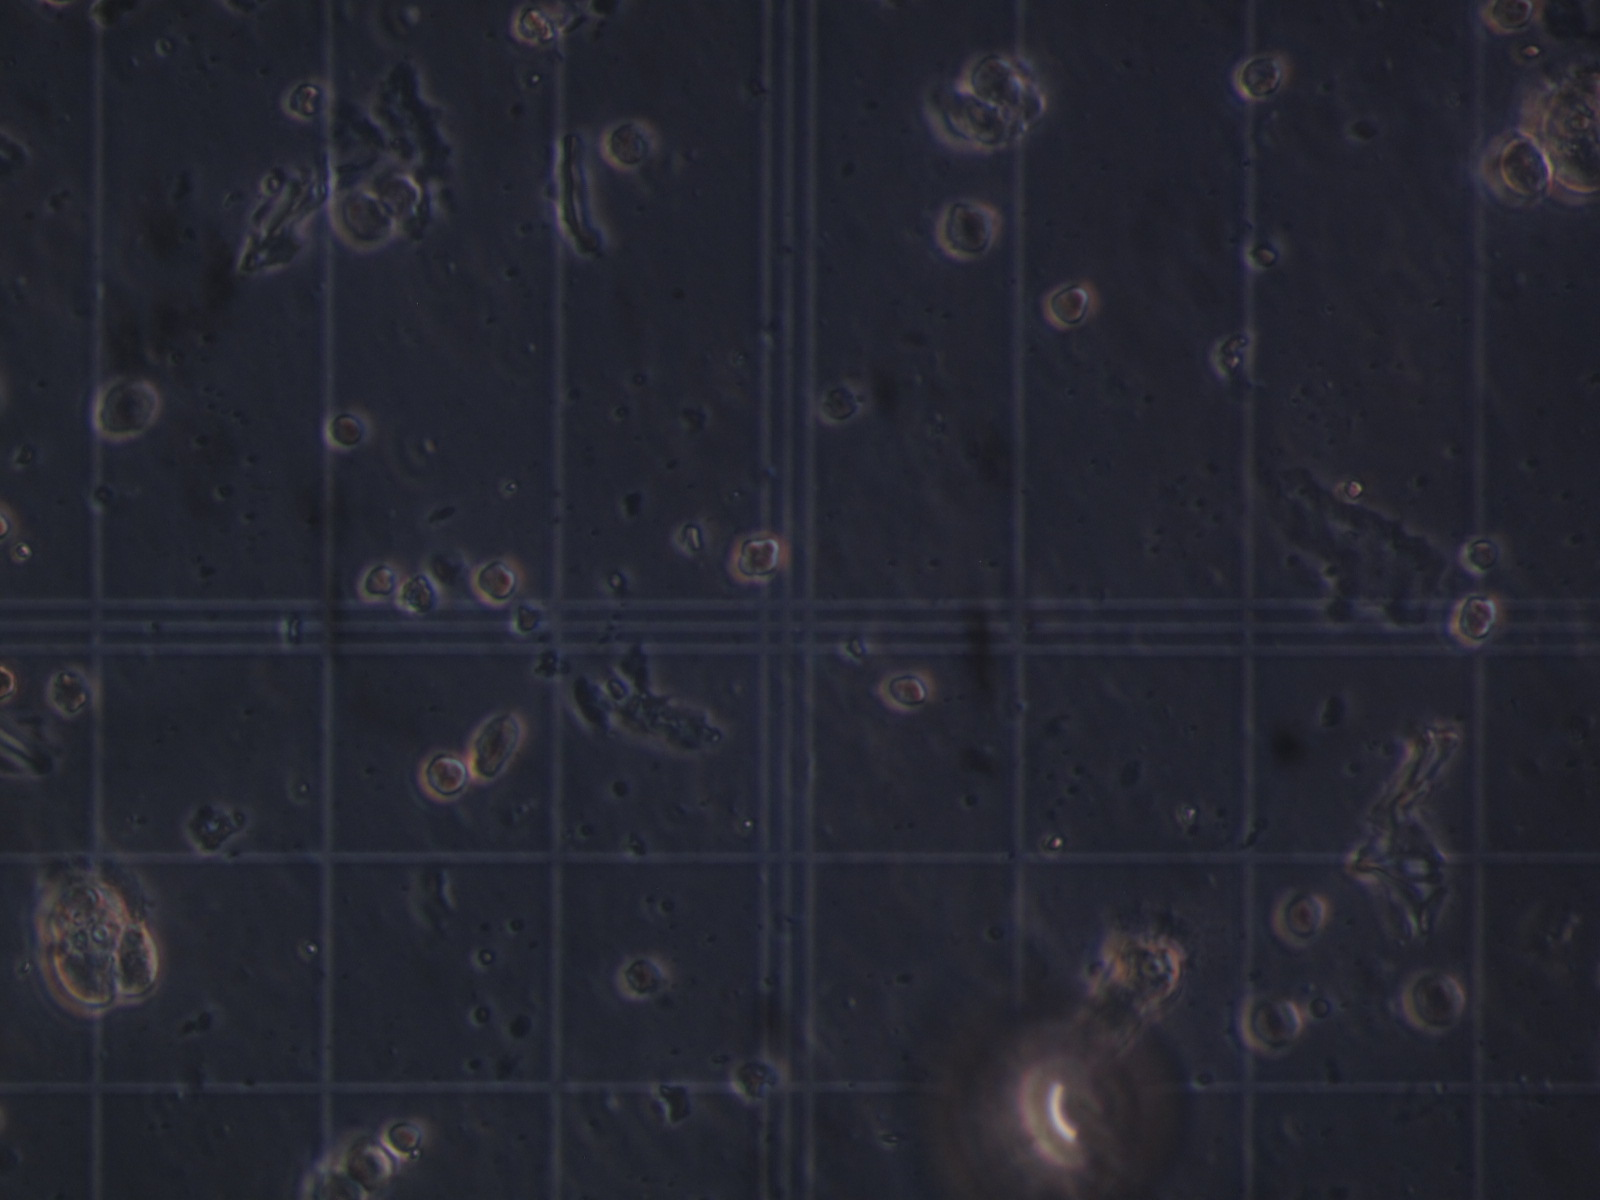hemo: (1479, 127, 1555, 205), (89, 373, 163, 444), (1238, 991, 1304, 1063), (1400, 967, 1466, 1035), (333, 185, 397, 251), (467, 712, 527, 783), (936, 198, 999, 262), (1271, 887, 1330, 949), (601, 117, 658, 173), (729, 531, 790, 582), (727, 1054, 787, 1105), (1041, 279, 1094, 332), (420, 751, 470, 807), (1448, 594, 1497, 649), (1235, 52, 1286, 103), (47, 666, 96, 720), (510, 3, 564, 50), (470, 557, 523, 605), (321, 406, 374, 453), (282, 76, 334, 122), (617, 954, 669, 1000), (878, 671, 932, 711), (398, 568, 442, 616), (379, 173, 423, 219), (1480, 1, 1540, 35), (382, 1116, 425, 1160), (821, 381, 862, 425), (358, 562, 396, 603), (1, 664, 16, 702)
